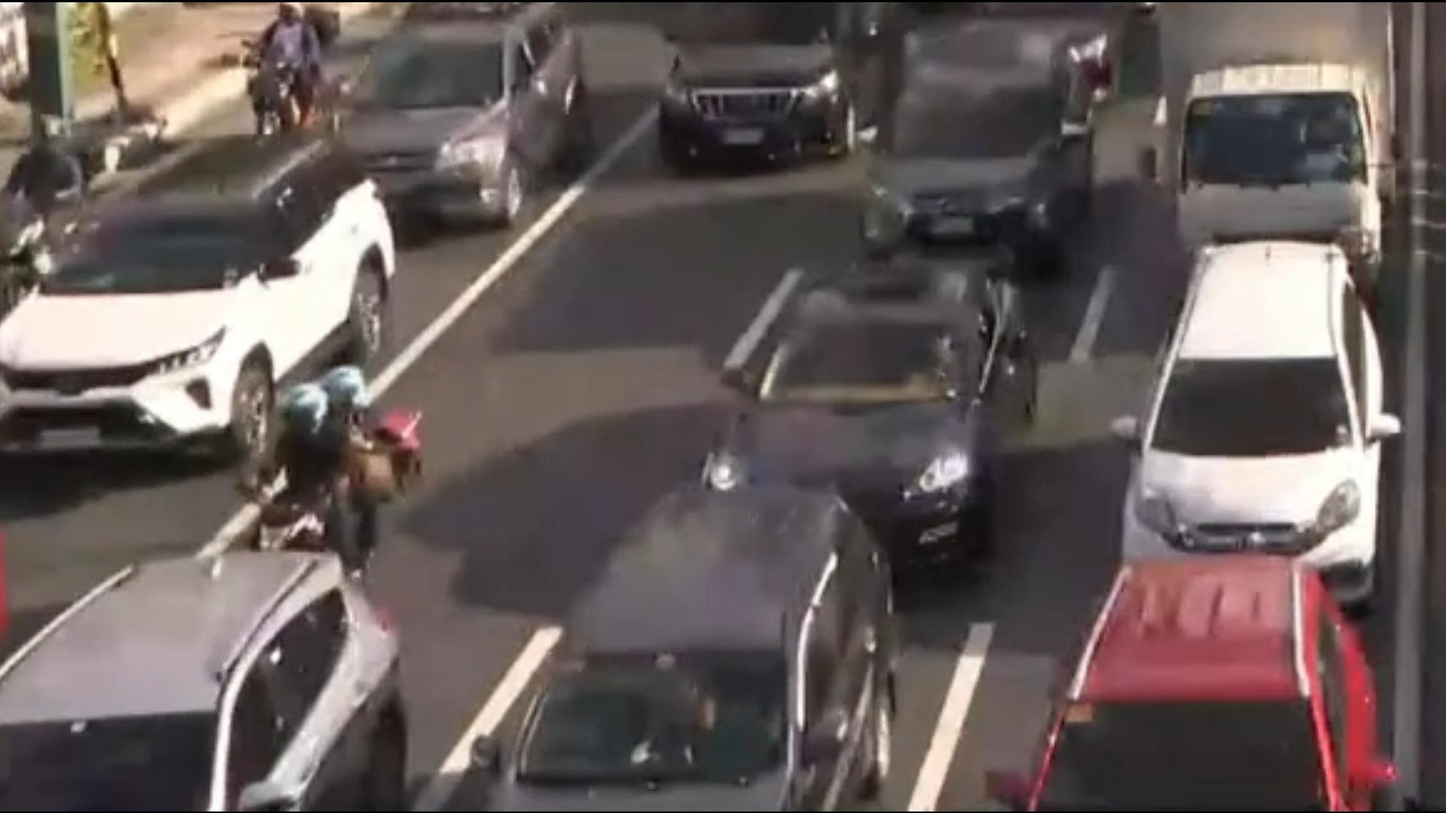Motorcycle: (233, 373, 420, 587), (0, 102, 115, 316), (239, 0, 335, 139)
SUV: (480, 487, 892, 813), (0, 136, 392, 472), (0, 553, 431, 813), (1105, 241, 1403, 600), (996, 578, 1378, 813), (866, 19, 1109, 263), (653, 0, 904, 177)
Sedan: (670, 263, 1039, 582), (307, 2, 589, 235)
Truck: (1145, 0, 1399, 288)
